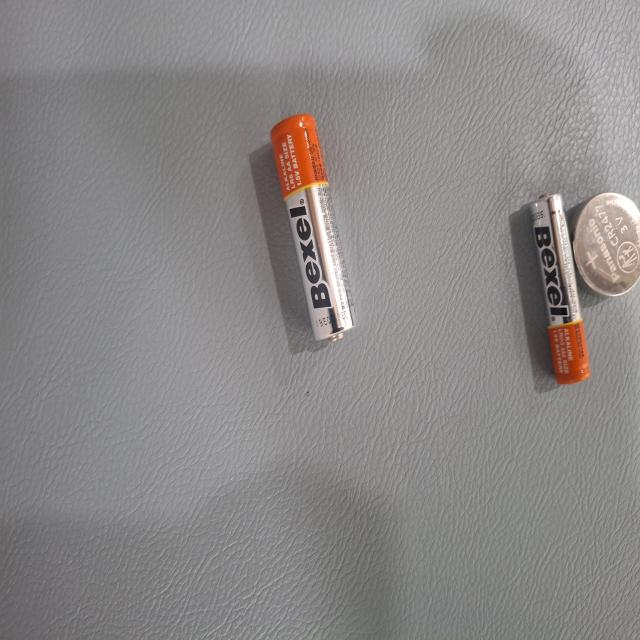AA: (285, 296, 367, 526)
AAA: (47, 254, 112, 446)
COIN: (0, 344, 67, 447)
